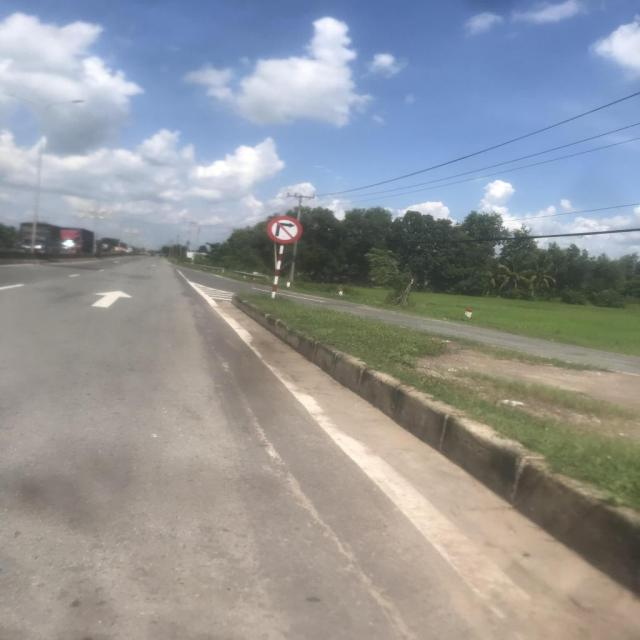cam_re_phai: (266, 216, 304, 245)
